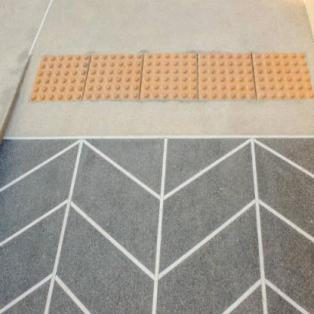Podoctatil: (30, 50, 313, 99)
